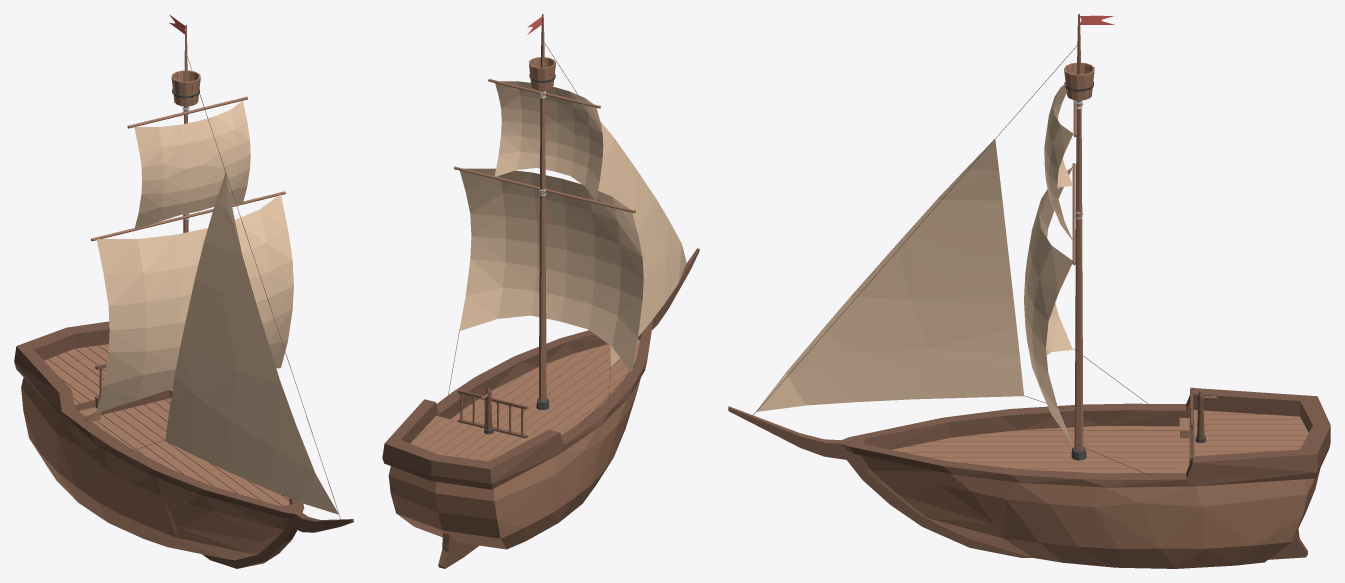
The model's file is Ship_01_1.fbx.
3 renders of one model, left to right at view 1: azimuth 30°, elevation 25°; view 2: azimuth 150°, elevation 25°; view 3: azimuth 270°, elevation 25°, orthographic. The views are drawn at different scales.
Visible parts, largest first — view 1: Ship_01_1; view 2: Ship_01_1; view 3: Ship_01_1.
Part boxes in pixels (x1=…): Ship_01_1: x1=14, y1=14, x2=353, y2=568; Ship_01_1: x1=382, y1=14, x2=699, y2=568; Ship_01_1: x1=728, y1=14, x2=1330, y2=568.
Bounding box in the file's own units: 579 × 1474 × 1481.
